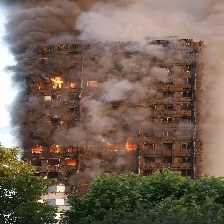fire: (29, 143, 140, 166), (37, 76, 76, 89)
smoke: (11, 1, 224, 138)
